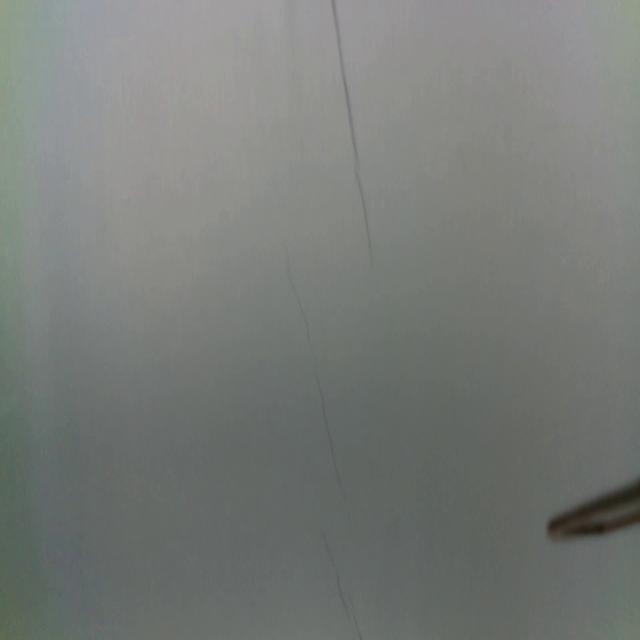crease: (284, 245, 345, 496), (331, 0, 374, 264), (320, 527, 360, 640)
